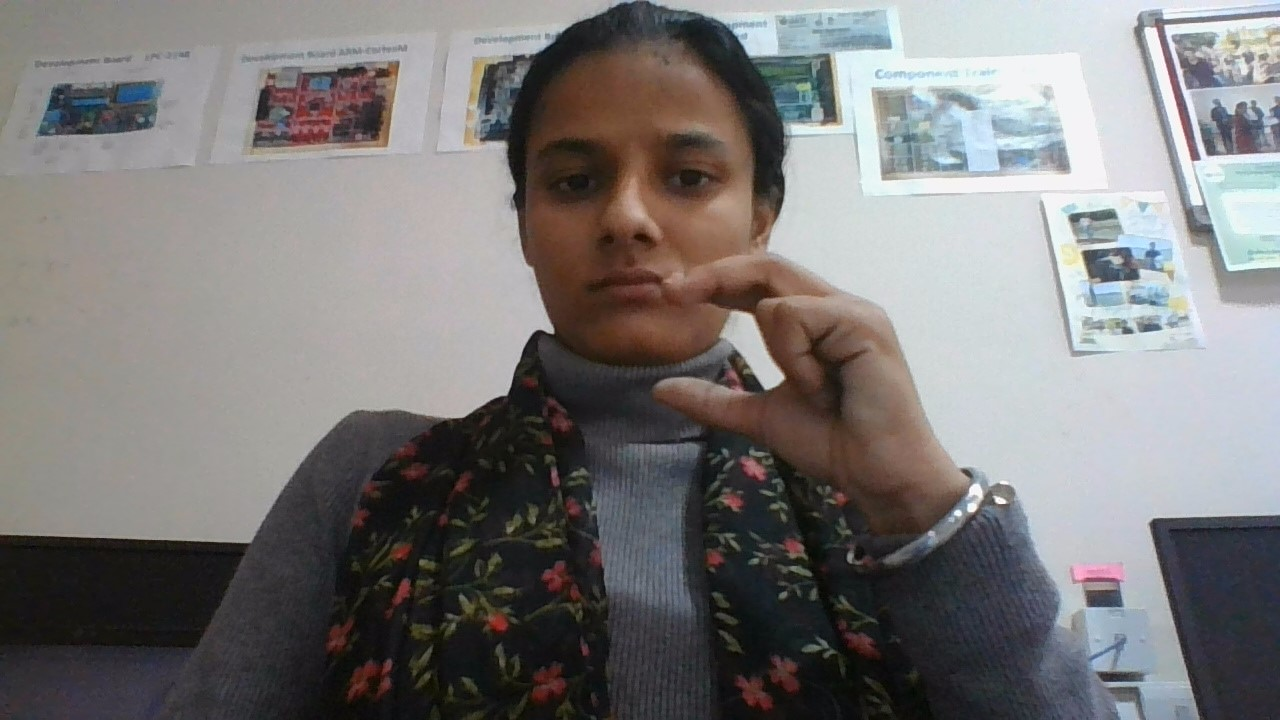No: (644, 244, 980, 539)
